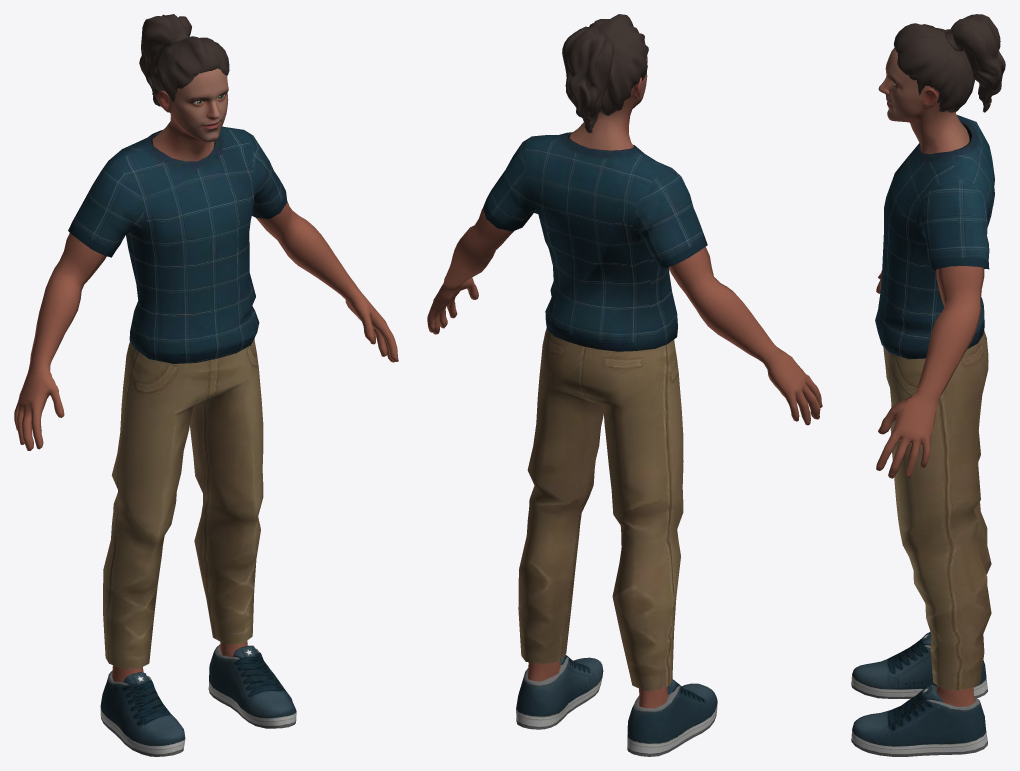
Rendered from readyme.fbx.
3 views of the same model, side by side, from view 1: azimuth 30°, elevation 25°; view 2: azimuth 150°, elevation 25°; view 3: azimuth 270°, elevation 25° (orthographic). The views are drawn at different scales.
Visible parts, largest first — view 1: Wolf3D_Outfit_Bottom, Wolf3D_Outfit_Top, Wolf3D_Body, Wolf3D_Outfit_Footwear, Wolf3D_Hair, Wolf3D_Head; view 2: Wolf3D_Outfit_Bottom, Wolf3D_Outfit_Top, Wolf3D_Body, Wolf3D_Outfit_Footwear, Wolf3D_Hair, Wolf3D_Head; view 3: Wolf3D_Outfit_Bottom, Wolf3D_Outfit_Top, Wolf3D_Outfit_Footwear, Wolf3D_Body, Wolf3D_Hair, Wolf3D_Head.
Part boxes in pixels (box(x1,y1,x2,y2)): Wolf3D_Outfit_Bottom: box(103, 338, 263, 668); Wolf3D_Outfit_Top: box(68, 126, 287, 363); Wolf3D_Body: box(14, 201, 398, 681); Wolf3D_Outfit_Footwear: box(100, 644, 296, 756); Wolf3D_Hair: box(139, 14, 229, 107); Wolf3D_Head: box(152, 68, 228, 161); Wolf3D_Outfit_Bottom: box(518, 328, 683, 690); Wolf3D_Outfit_Top: box(483, 132, 707, 351); Wolf3D_Body: box(427, 208, 822, 708); Wolf3D_Outfit_Footwear: box(516, 655, 717, 756); Wolf3D_Hair: box(562, 14, 648, 133); Wolf3D_Head: box(569, 56, 647, 150); Wolf3D_Outfit_Bottom: box(883, 330, 991, 690); Wolf3D_Outfit_Top: box(875, 115, 994, 359); Wolf3D_Outfit_Footwear: box(851, 632, 987, 756); Wolf3D_Body: box(876, 266, 984, 706); Wolf3D_Hair: box(894, 14, 1005, 112); Wolf3D_Head: box(878, 48, 969, 154).
Bounding box in the file's own units: 1.06 × 1.88 × 0.3763.
8 materials, 8 textured.
